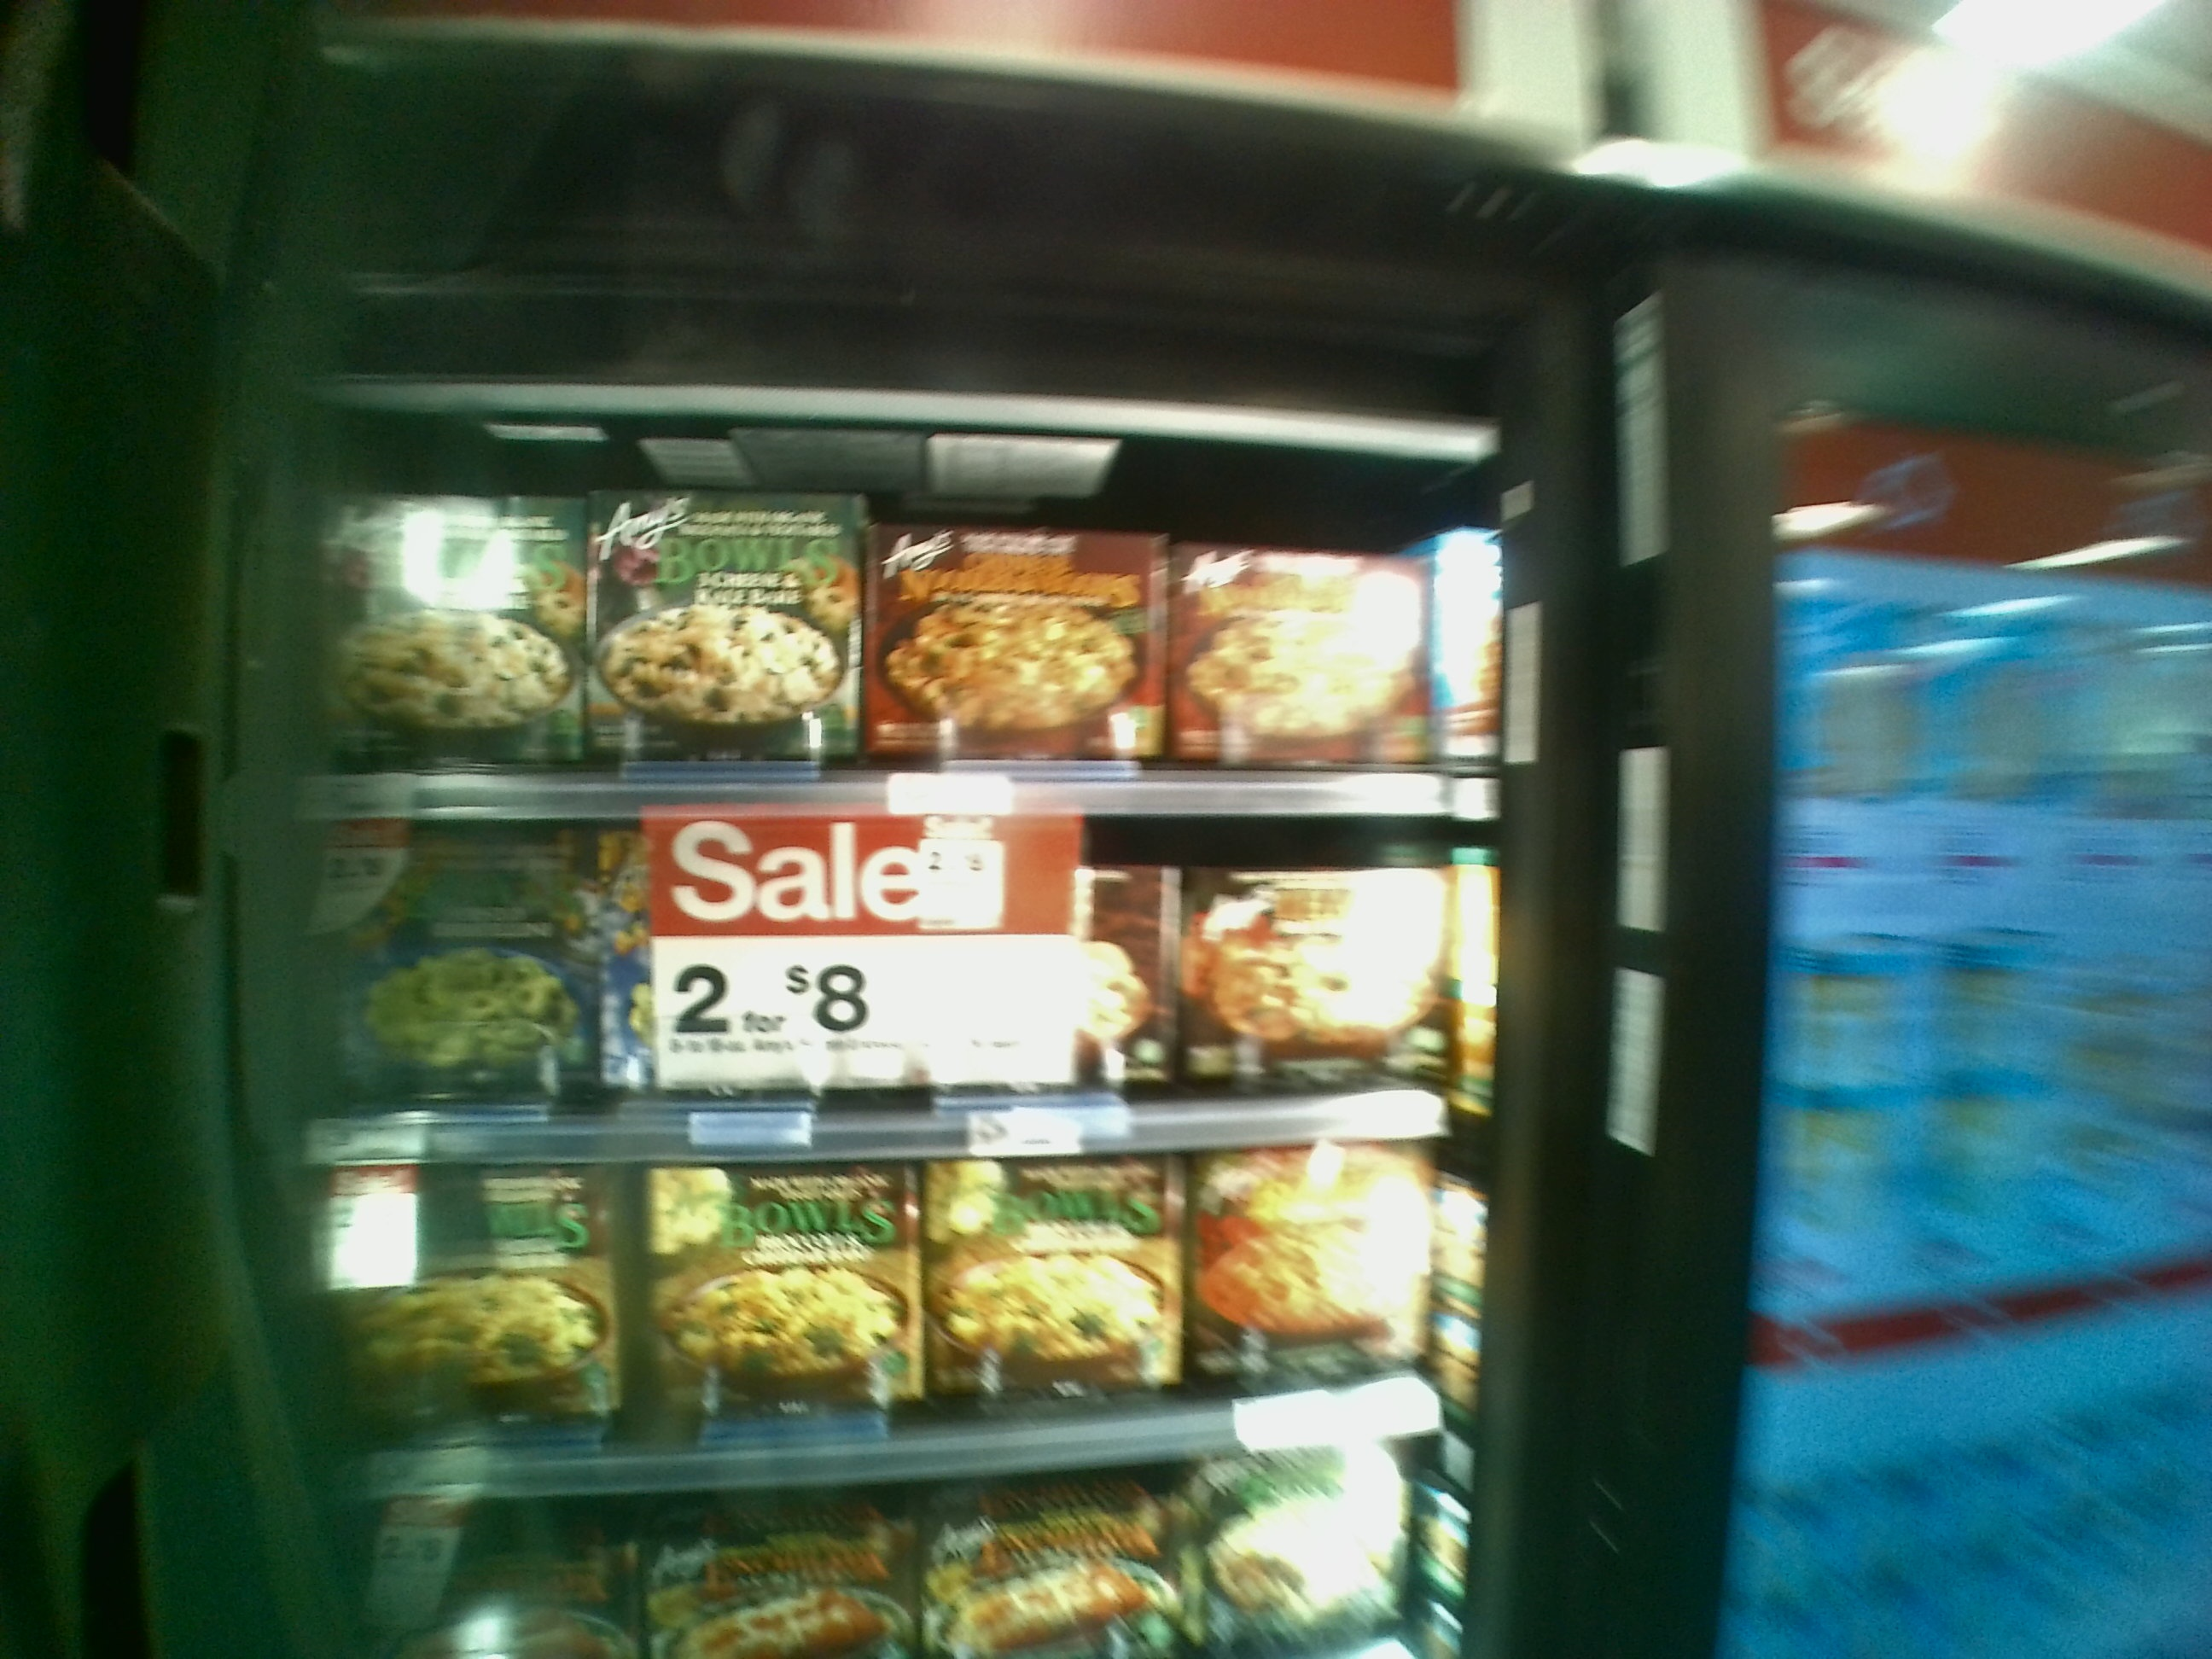shelf: (314, 404, 1493, 823), (314, 829, 1467, 1159), (331, 1168, 1447, 1500)
